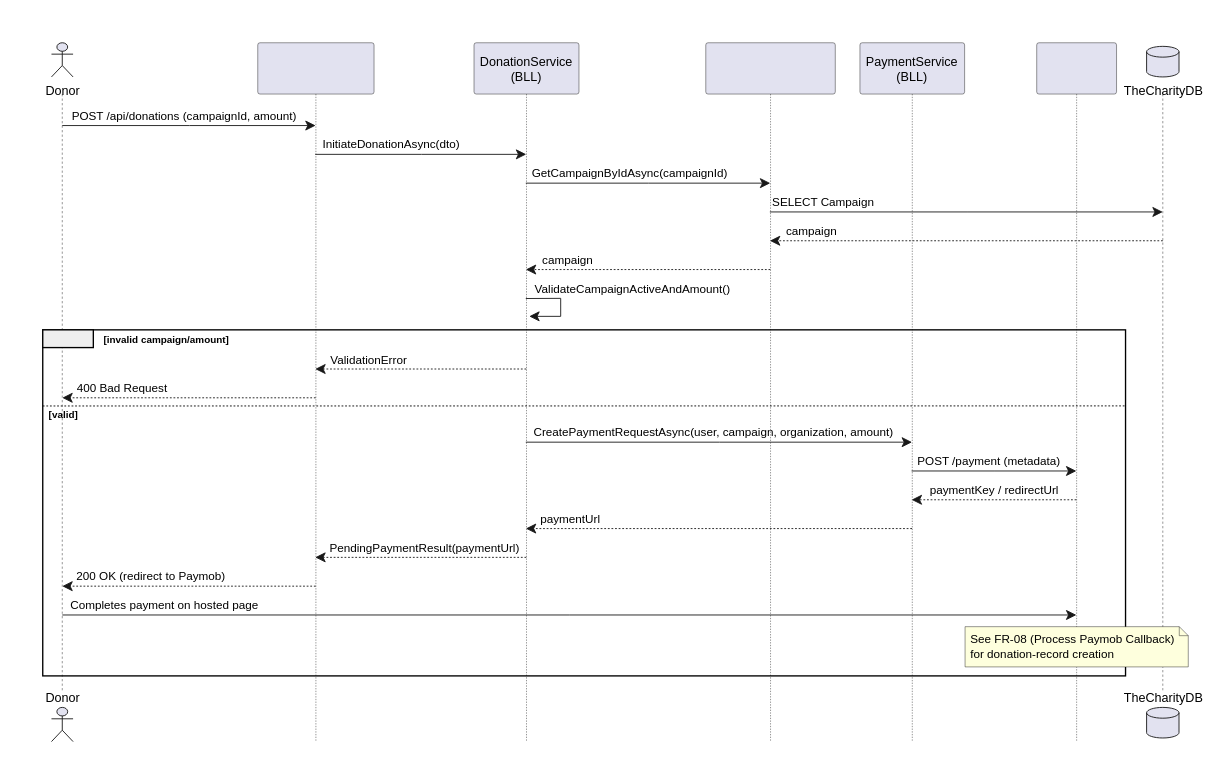
This 1218x757 diagram has some shape labels left out. Here are the shapes that lost their labels. From the top down, the box of each, then its label:
(42, 329, 94, 348): alt
(257, 42, 374, 741): DonationController (PL)
(705, 42, 835, 741): CampaignRepository (DAL)
(1036, 42, 1116, 741): Paymob API
